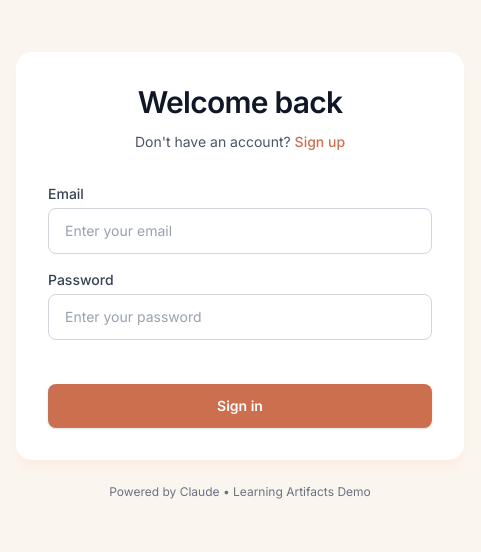
Test: LoginPage › displays error message on failed login
Type "test@example.com" into the field with placeholder "Enter your email" at (240, 231), box [48,208,432,254]
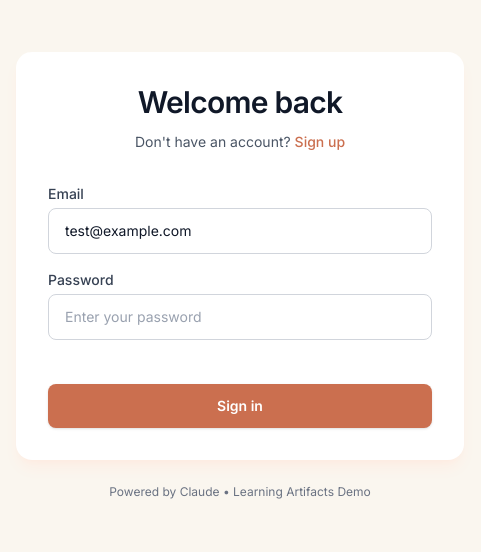
Type "wrongpassword" into the password field with placeholder "Enter your password" at (240, 317), box [48,294,432,340]
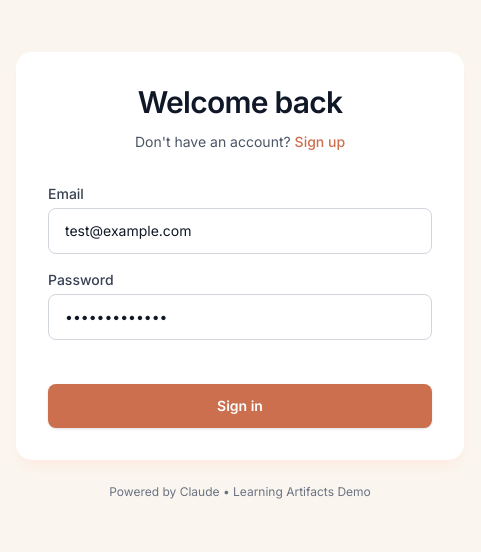
Click the button "Sign in" at (240, 406), box [48,384,432,428]
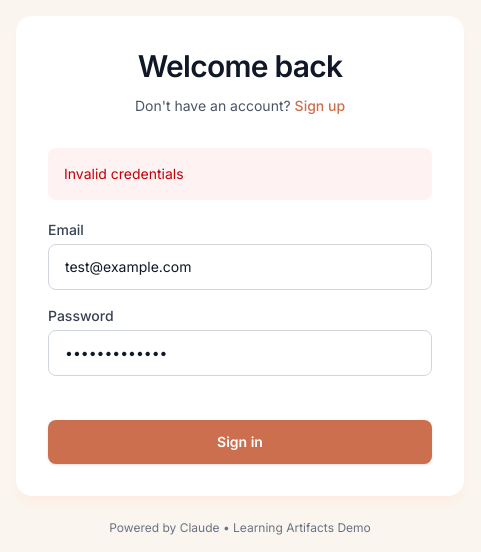
Check: the text "Invalid credentials" is shown, box [64,165,184,182]
